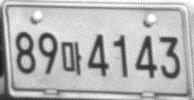1: (111, 33, 129, 78)
3: (159, 36, 181, 79)
4: (133, 35, 158, 78), (88, 33, 110, 77)
8: (15, 31, 36, 74)
9: (37, 32, 58, 75)
마: (60, 40, 82, 76)
